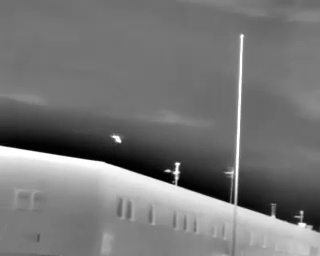HELICOPTER: (108, 131, 128, 147)
